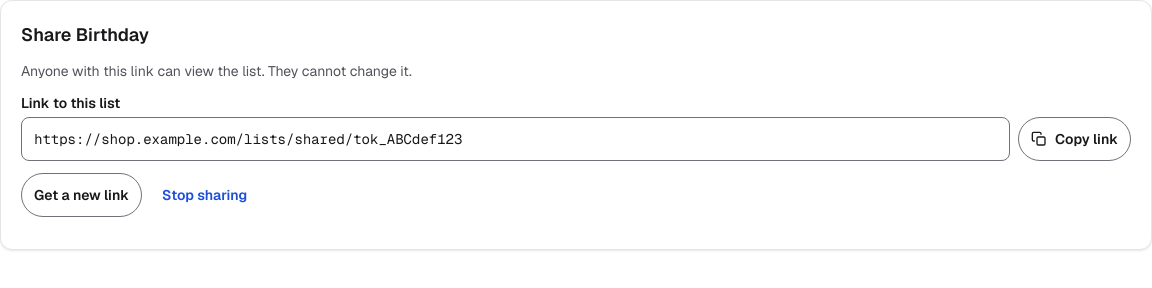
Test case: ShareListPanel: with JS › Copy link uses the clipboard API and announces
This screenshot has width=1152, height=288.
Click the button "Copy link". click: {"x": 1075, "y": 139}
box: [1018,117,1131,161]
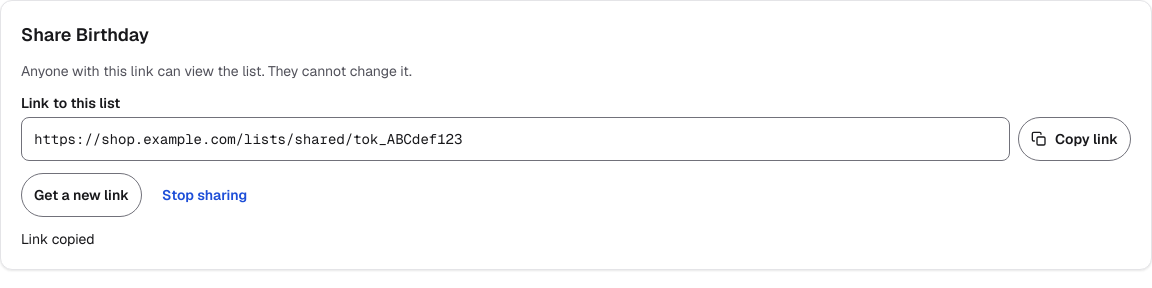
Expected: the text with test id "share-status" reads "Link copied", [21,230,95,248]
